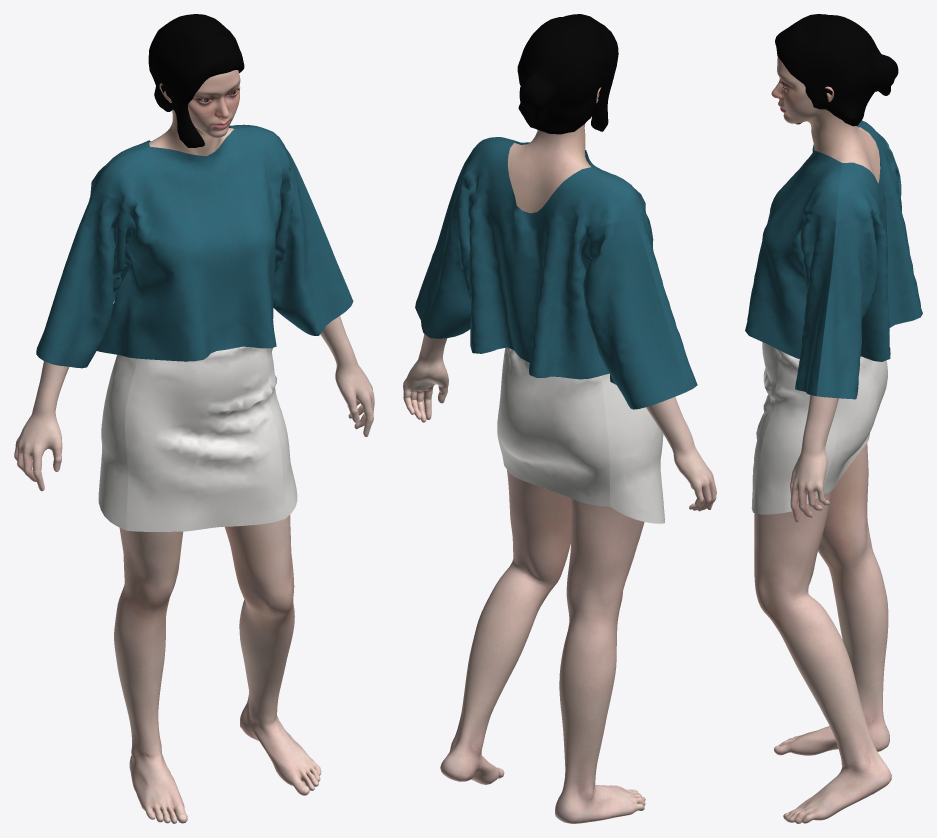
File: Custom_View_7__FV2_07.obj
3 renders of one model, left to right at view 1: azimuth 30°, elevation 25°; view 2: azimuth 150°, elevation 25°; view 3: azimuth 270°, elevation 25°, orthographic. The views are drawn at different scales.
Bounding box in the file's own units: 775 × 1773 × 377.
